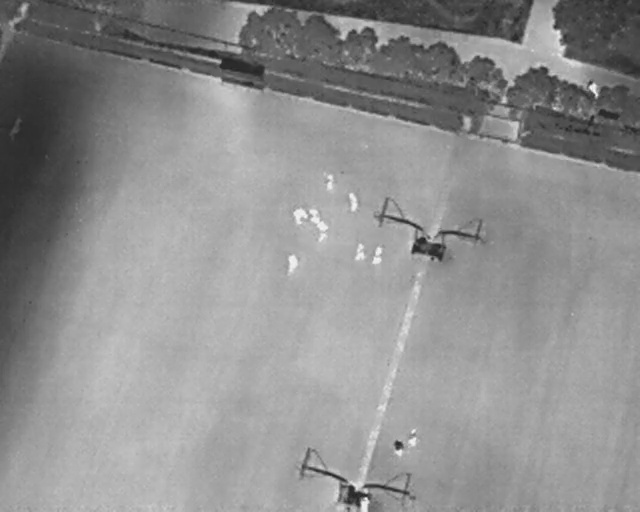Person: (315, 222, 329, 243), (293, 207, 307, 226), (286, 253, 298, 275), (307, 206, 321, 224), (392, 439, 404, 459), (587, 79, 599, 98), (372, 246, 383, 266), (407, 428, 419, 446), (355, 241, 366, 260), (324, 172, 334, 192), (349, 192, 358, 214)
